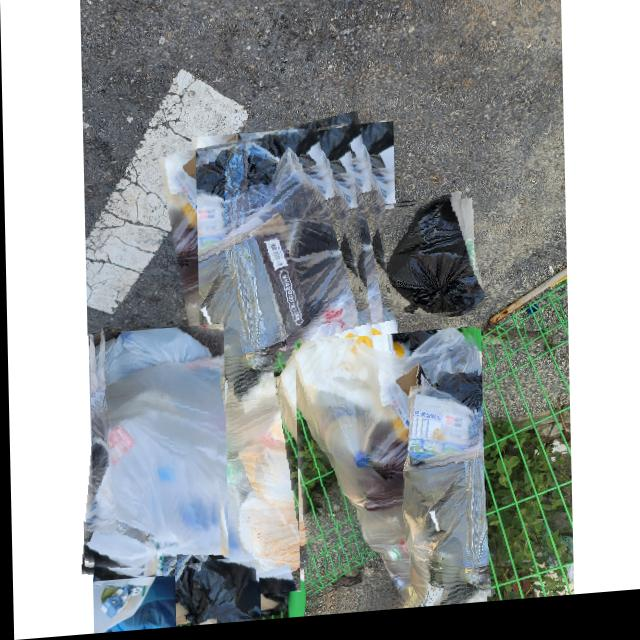other_trashbag: (195, 142, 384, 599), (295, 338, 471, 611), (82, 331, 222, 571), (386, 204, 482, 320), (173, 563, 257, 629)
